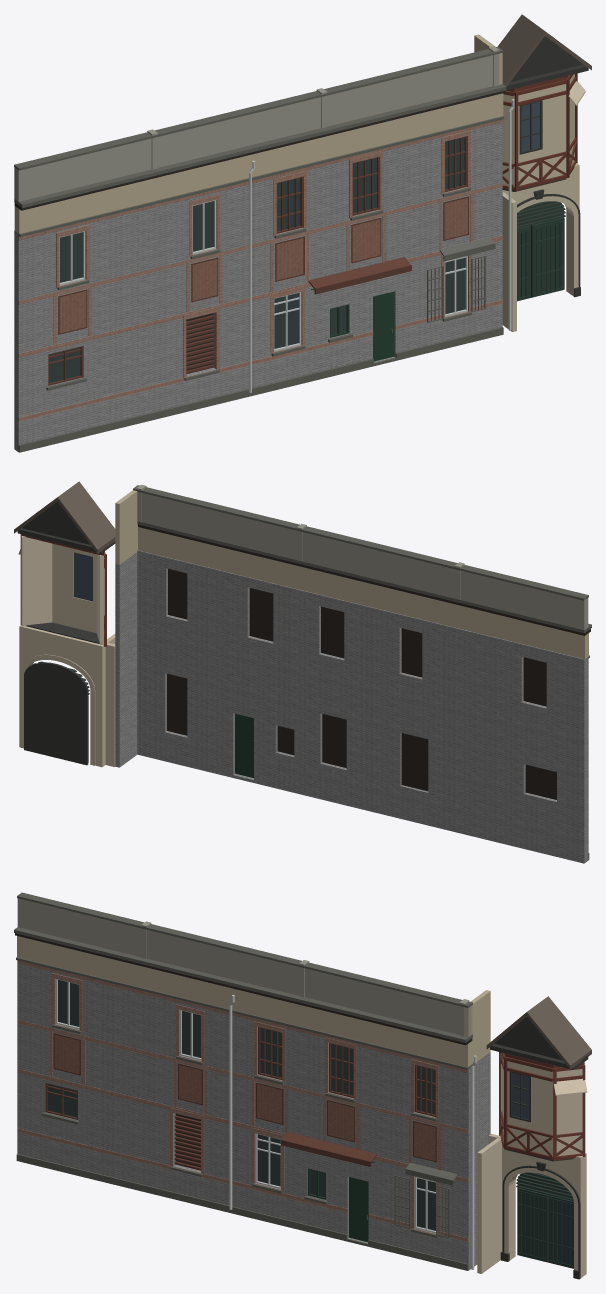
File: xuhui-yanqing-121-brick-front-lod.glb
3 views of the same model, one above another, from view 1: azimuth 30°, elevation 25°; view 2: azimuth 150°, elevation 25°; view 3: azimuth 330°, elevation 25° (orthographic). The views are drawn at different scales.
Visible parts, largest first — view 1: 延庆路121号住宅砖砌街面与木筋凸窗; view 2: 延庆路121号住宅砖砌街面与木筋凸窗; view 3: 延庆路121号住宅砖砌街面与木筋凸窗.
Part boxes in pixels (x1,y1,x2,y2): 延庆路121号住宅砖砌街面与木筋凸窗: (14,14,591,452); 延庆路121号住宅砖砌街面与木筋凸窗: (14,481,591,863); 延庆路121号住宅砖砌街面与木筋凸窗: (14,892,591,1279).
Bounding box in the file's own units: 17.75 × 8.23 × 2.1.
Materials: 17 (3 with a texture image).
